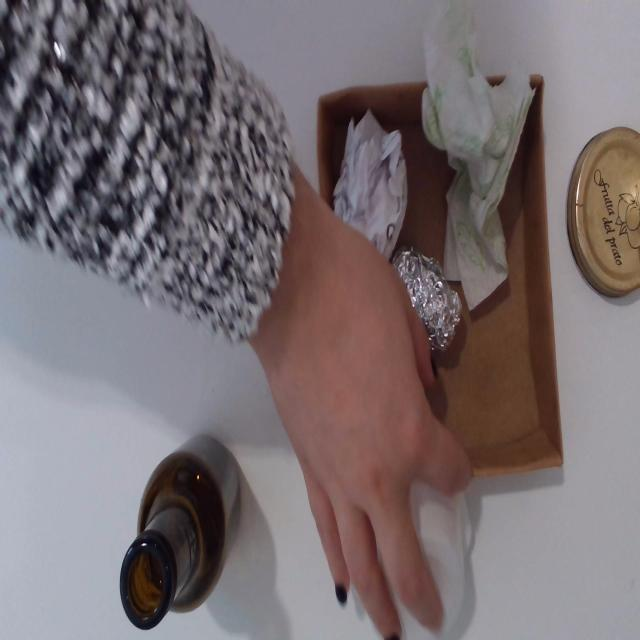Glass: (121, 433, 241, 634)
Paper: (425, 9, 536, 300), (334, 108, 407, 254)
